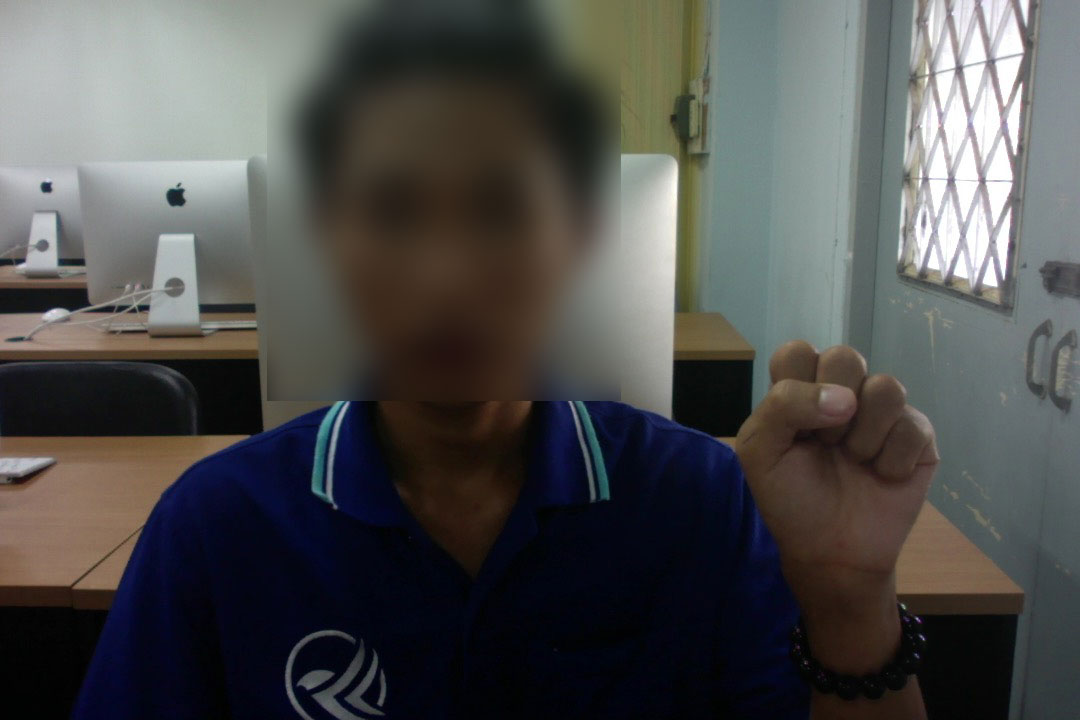sor: (725, 319, 941, 597)
